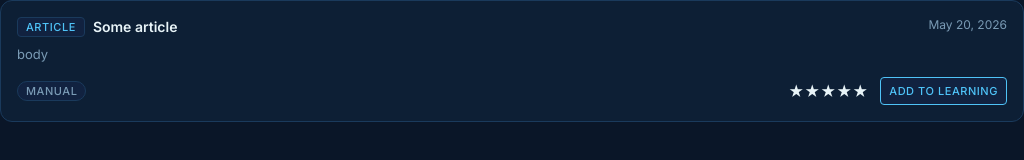
KnowledgeCard rating error handling › shows an alert when rating fails
The image size is (1024, 160).
Click the button named "Rate 4 out of 5". click: {"x": 844, "y": 91}
box: [836,84,852,98]
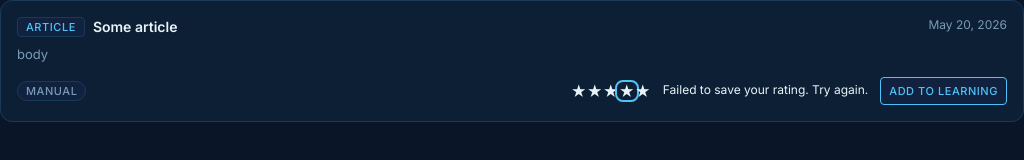
Expected: the button named "Rate 4 out of 5" is enabled, [619,84,635,98]
Expected: the message reads "Failed to save your rating. Try again.", [663,82,868,97]
